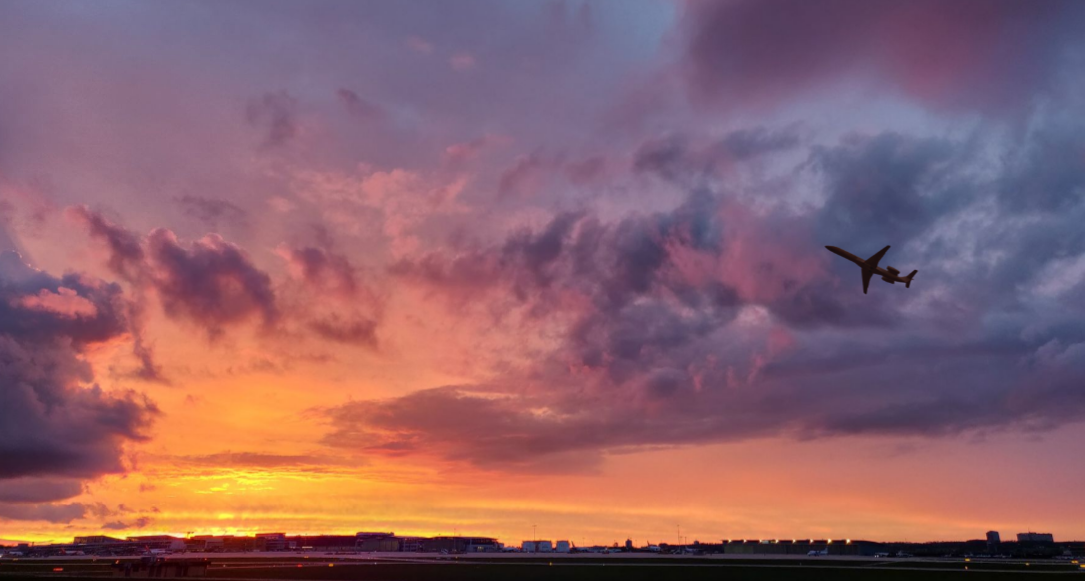military drone: (824, 245, 918, 294)
